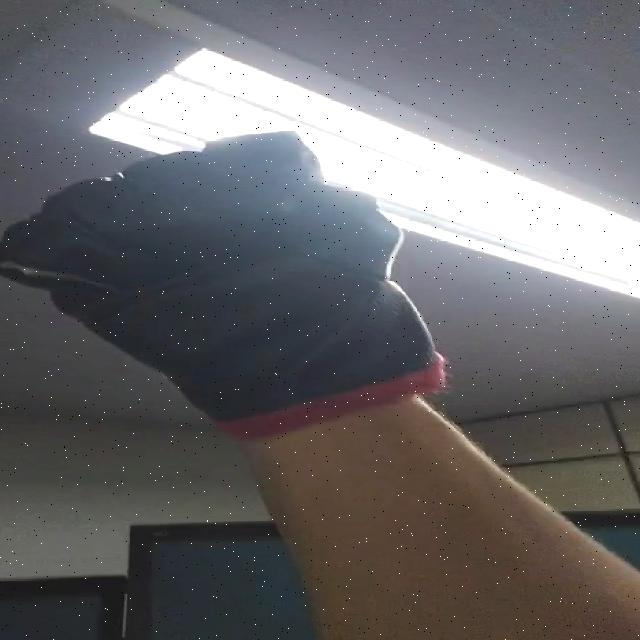Gloves: (0, 133, 454, 444)
